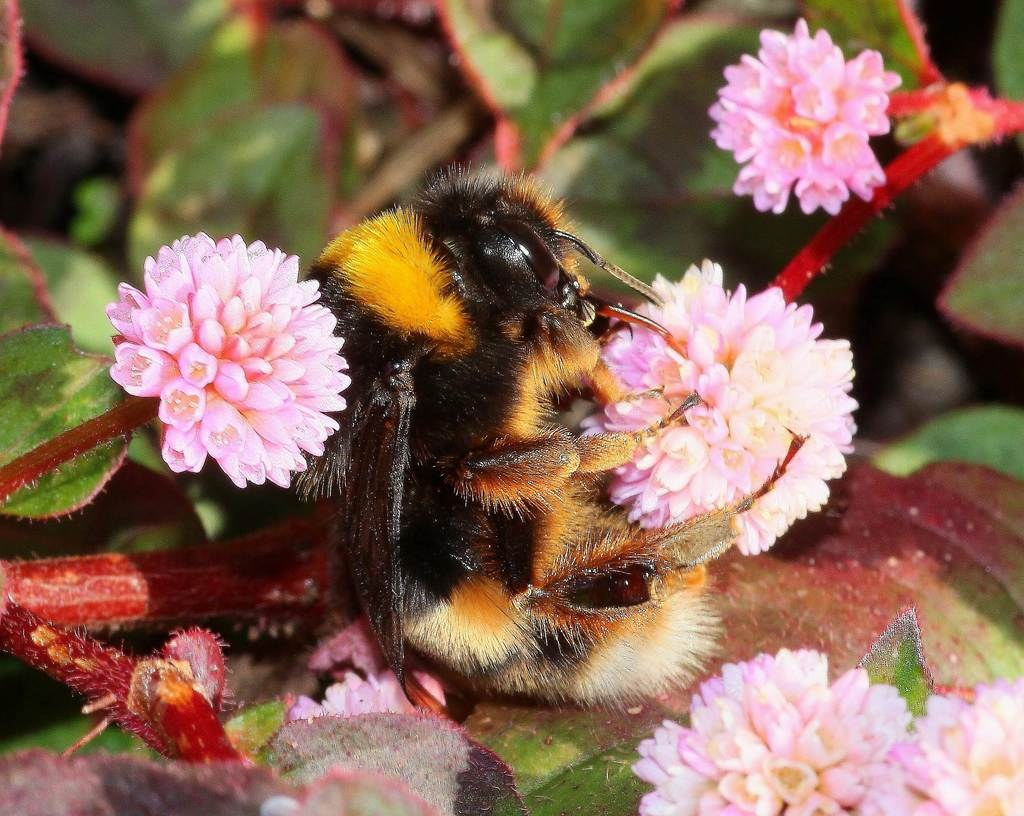bee: (287, 162, 815, 722)
